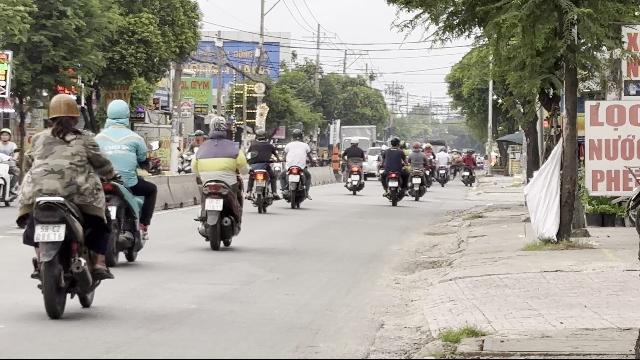helmet: (46, 94, 82, 128), (104, 98, 130, 126), (208, 116, 228, 138)
licenseplate: (34, 223, 64, 241), (205, 198, 223, 210)
motorcyclist: (13, 91, 115, 317), (90, 97, 158, 265), (191, 114, 245, 250)
